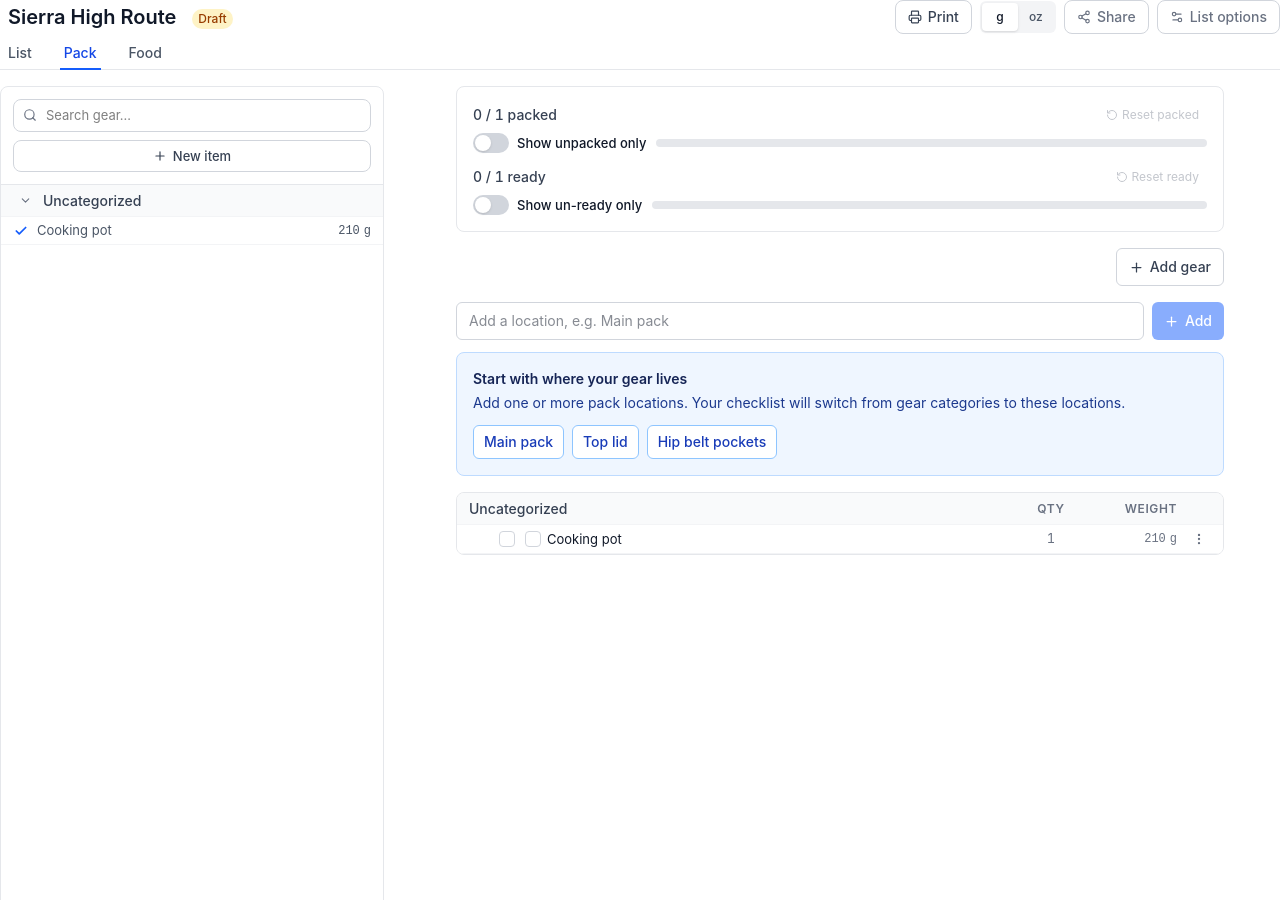
Test: adding gear from Pack view › opens the gear library from that button
expect the field named "New packing location" is shown: met, box x1=456 y1=302 x2=1144 y2=340
Click the button "Add gear". click: (1170, 267)
box: x1=1116 y1=248 x2=1224 y2=286
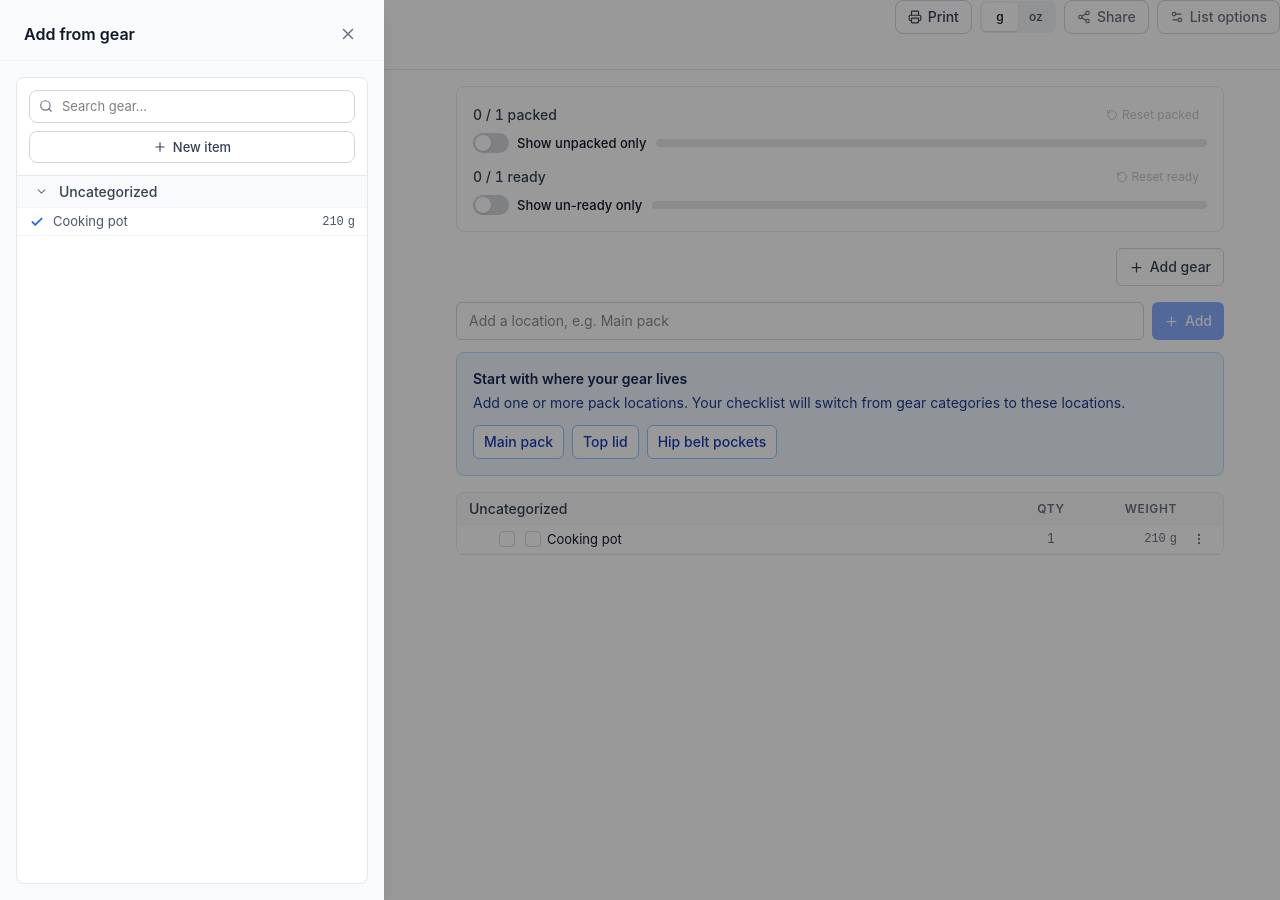
expect the heading "Add from gear" is shown: met, box x1=24 y1=22 x2=135 y2=46
